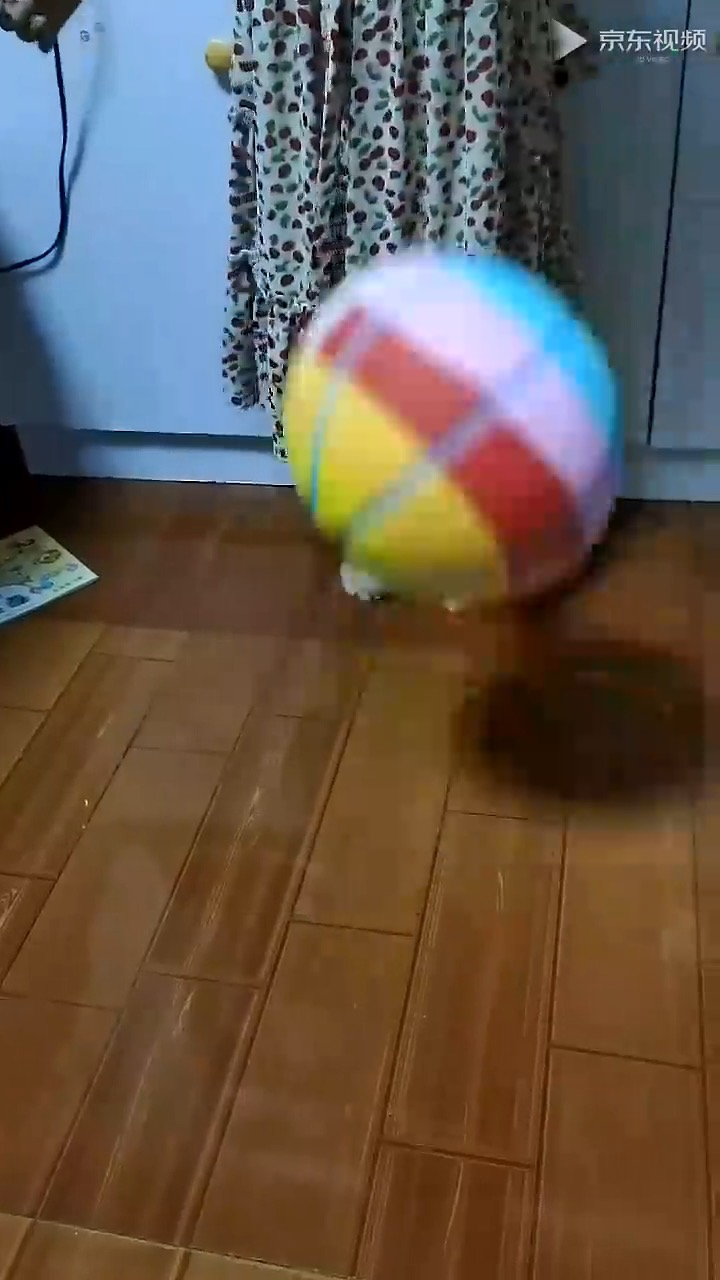ball: (283, 238, 630, 609)
